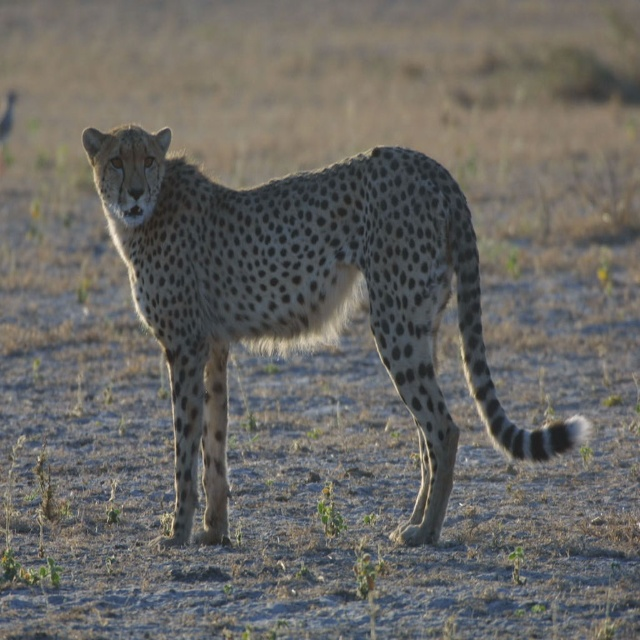Cheetah: (81, 123, 588, 546)
